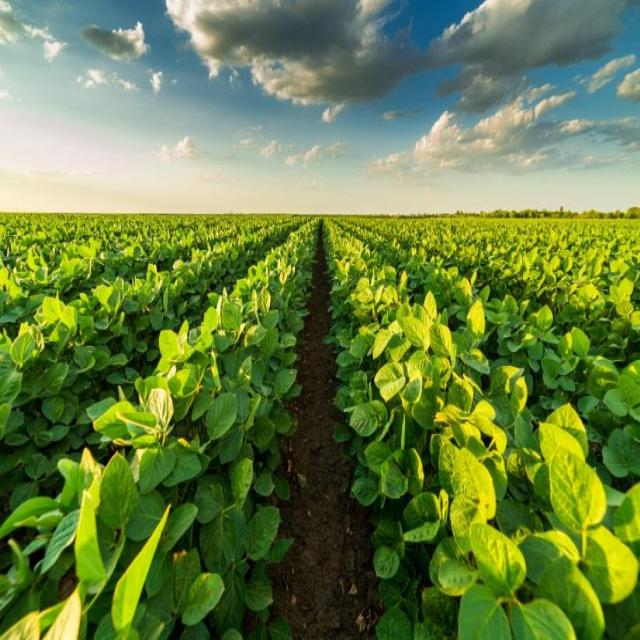row: (249, 230, 408, 640)
